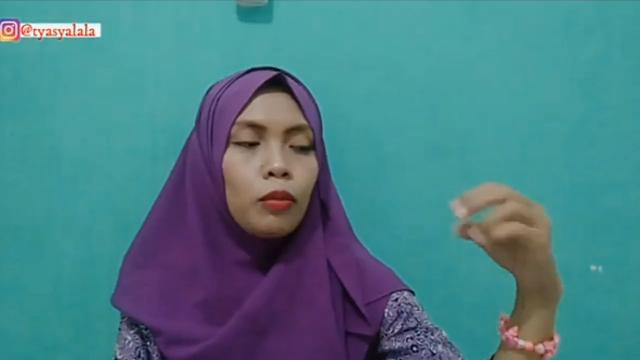O: (447, 180, 565, 290)
